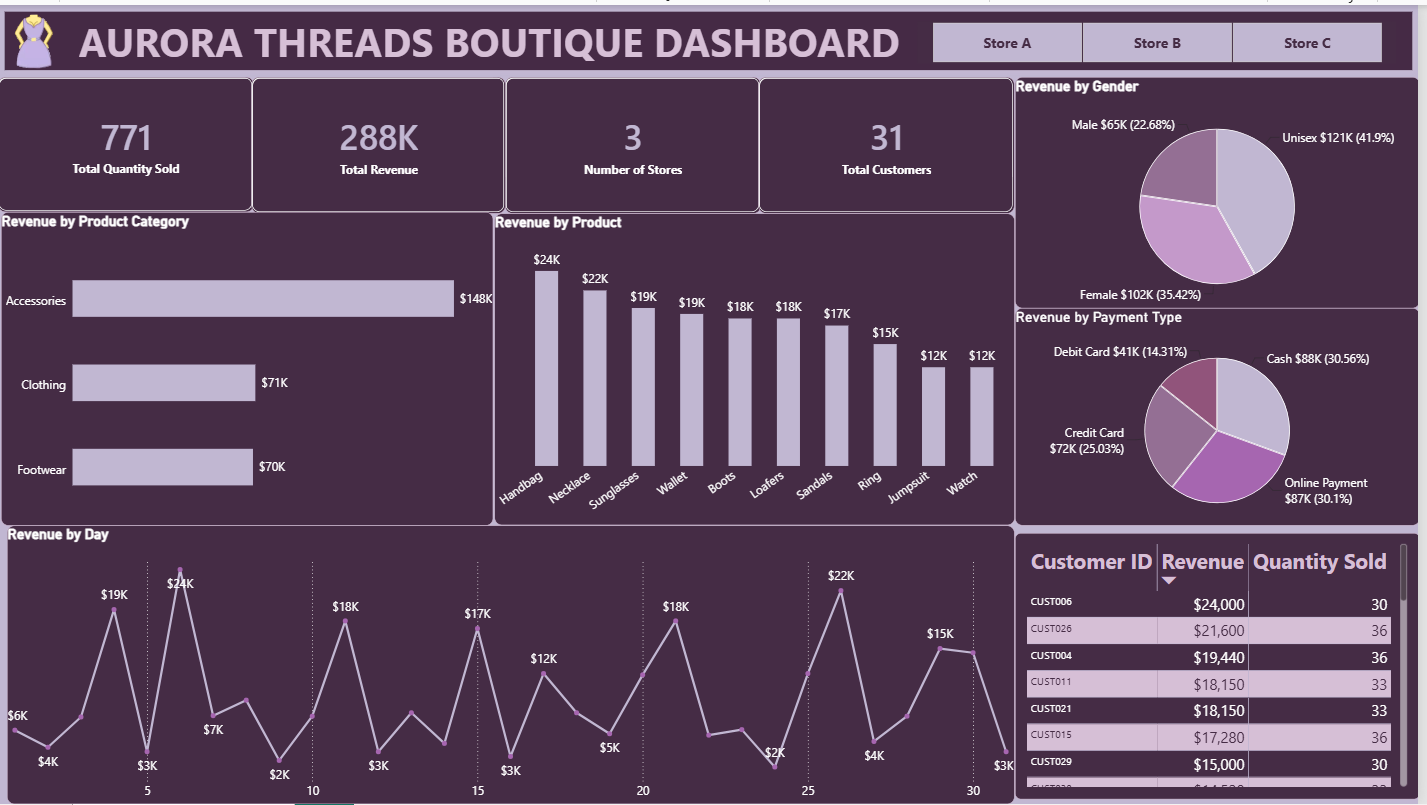

The dashboard page shown, as its layout file describes it:
{"tool":"powerbi","page":{"name":"Aurora Report Page","canvas":[1920,1080],"ordinal":0},"visuals":[{"type":"cardVisual","fields":{"Data":["Sum(AuroraData.Quantity)"]},"box":[0,97.1,345.8,182.4],"z":0},{"type":"cardVisual","fields":{"Data":["Sum(AuroraData.Revenue)"]},"box":[343.4,97.1,343.4,184.7],"z":1000},{"type":"cardVisual","fields":{"Data":["Count(AuroraData.Store)"]},"box":[684.5,97.1,345.8,184.7],"z":2000},{"type":"cardVisual","fields":{"Data":["Count(AuroraData.Customer ID)"]},"box":[1027.9,97.1,345.8,184.7],"z":3000},{"type":"clusteredBarChart","title":"Revenue by Product Category","fields":{"Category":["AuroraData.Category"],"Y":["Sum(AuroraData.Revenue)"]},"box":[4.7,279.5,665.5,424],"z":4000},{"type":"clusteredColumnChart","title":"Revenue by Product","fields":{"Category":["AuroraData.Product"],"Y":["Sum(AuroraData.Revenue)"]},"box":[670.3,281.8,703.4,421.6],"z":5000},{"type":"lineChart","title":"Revenue by Day","fields":{"Category":["AuroraData.Date.Variation.Date Hierarchy.Day"],"Y":["Sum(AuroraData.Revenue)"]},"box":[11.8,703.4,1361.9,376.6],"z":6000},{"type":"pieChart","title":"Revenue by Gender","fields":{"Category":["AuroraData.Gender"],"Y":["Sum(AuroraData.Revenue)"]},"box":[1373.7,97.1,547.1,312.6],"z":7000},{"type":"pieChart","title":"Revenue by Payment Type","fields":{"Category":["AuroraData.Payment Type"],"Y":["Sum(AuroraData.Revenue)"]},"box":[1373.7,409.7,547.1,293.7],"z":8000},{"type":"pivotTable","fields":{"Rows":["AuroraData.Customer ID"],"Values":["Sum(AuroraData.Revenue)","Sum(AuroraData.Quantity)"]},"box":[1373.7,712.9,547.1,360],"z":9000},{"type":"shape","box":[0,0,1920.8,97.1],"z":10000},{"type":"image","box":[11.8,11.8,71.1,75.8],"z":11000},{"type":"slicer","fields":{"Values":["AuroraData.Store"]},"box":[1243.4,21.3,646.6,56.8],"z":12000}]}

Visuals, with their boxes in screenshot pixels (x1, y1, x2, y2), scaled from the page's 1920x1080 canvas onto the 1427x805 screenshot:
cardVisual - Sum(AuroraData.Quantity): rect(0, 72, 257, 208)
cardVisual - Sum(AuroraData.Revenue): rect(255, 72, 510, 210)
cardVisual - Count(AuroraData.Store): rect(509, 72, 766, 210)
cardVisual - Count(AuroraData.Customer ID): rect(764, 72, 1021, 210)
"Revenue by Product Category" clusteredBarChart: rect(3, 208, 498, 524)
"Revenue by Product" clusteredColumnChart: rect(498, 210, 1021, 524)
"Revenue by Day" lineChart: rect(9, 524, 1021, 804)
"Revenue by Gender" pieChart: rect(1021, 72, 1426, 305)
"Revenue by Payment Type" pieChart: rect(1021, 305, 1426, 524)
pivotTable - AuroraData.Customer ID x Sum(AuroraData.Revenue): rect(1021, 531, 1426, 800)
shape: rect(0, 0, 1426, 72)
image: rect(9, 9, 62, 65)
slicer - AuroraData.Store: rect(924, 16, 1405, 58)
